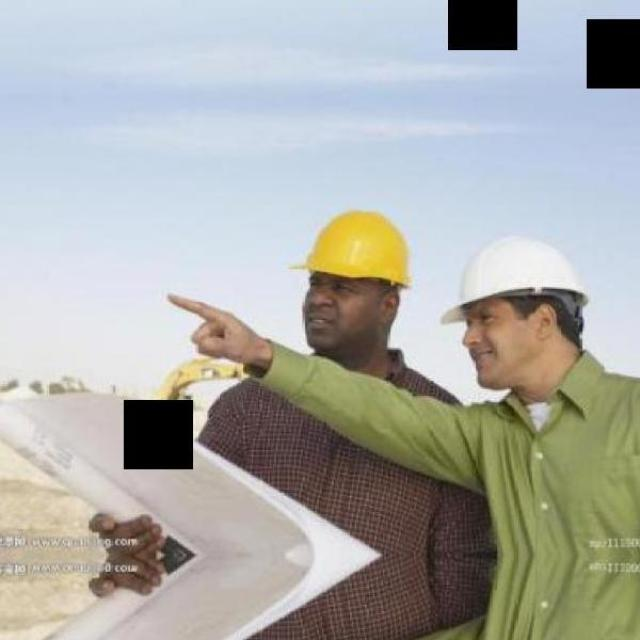white helmet: (436, 237, 600, 325)
yellow helmet: (288, 201, 413, 291)
